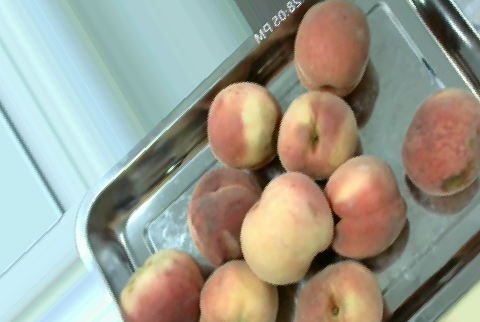Peach: (238, 171, 333, 284), (401, 86, 477, 196), (328, 156, 405, 256), (188, 166, 263, 266), (279, 90, 360, 179), (294, 3, 368, 98), (207, 80, 280, 171), (120, 247, 205, 322), (293, 260, 382, 322), (195, 258, 278, 322)
